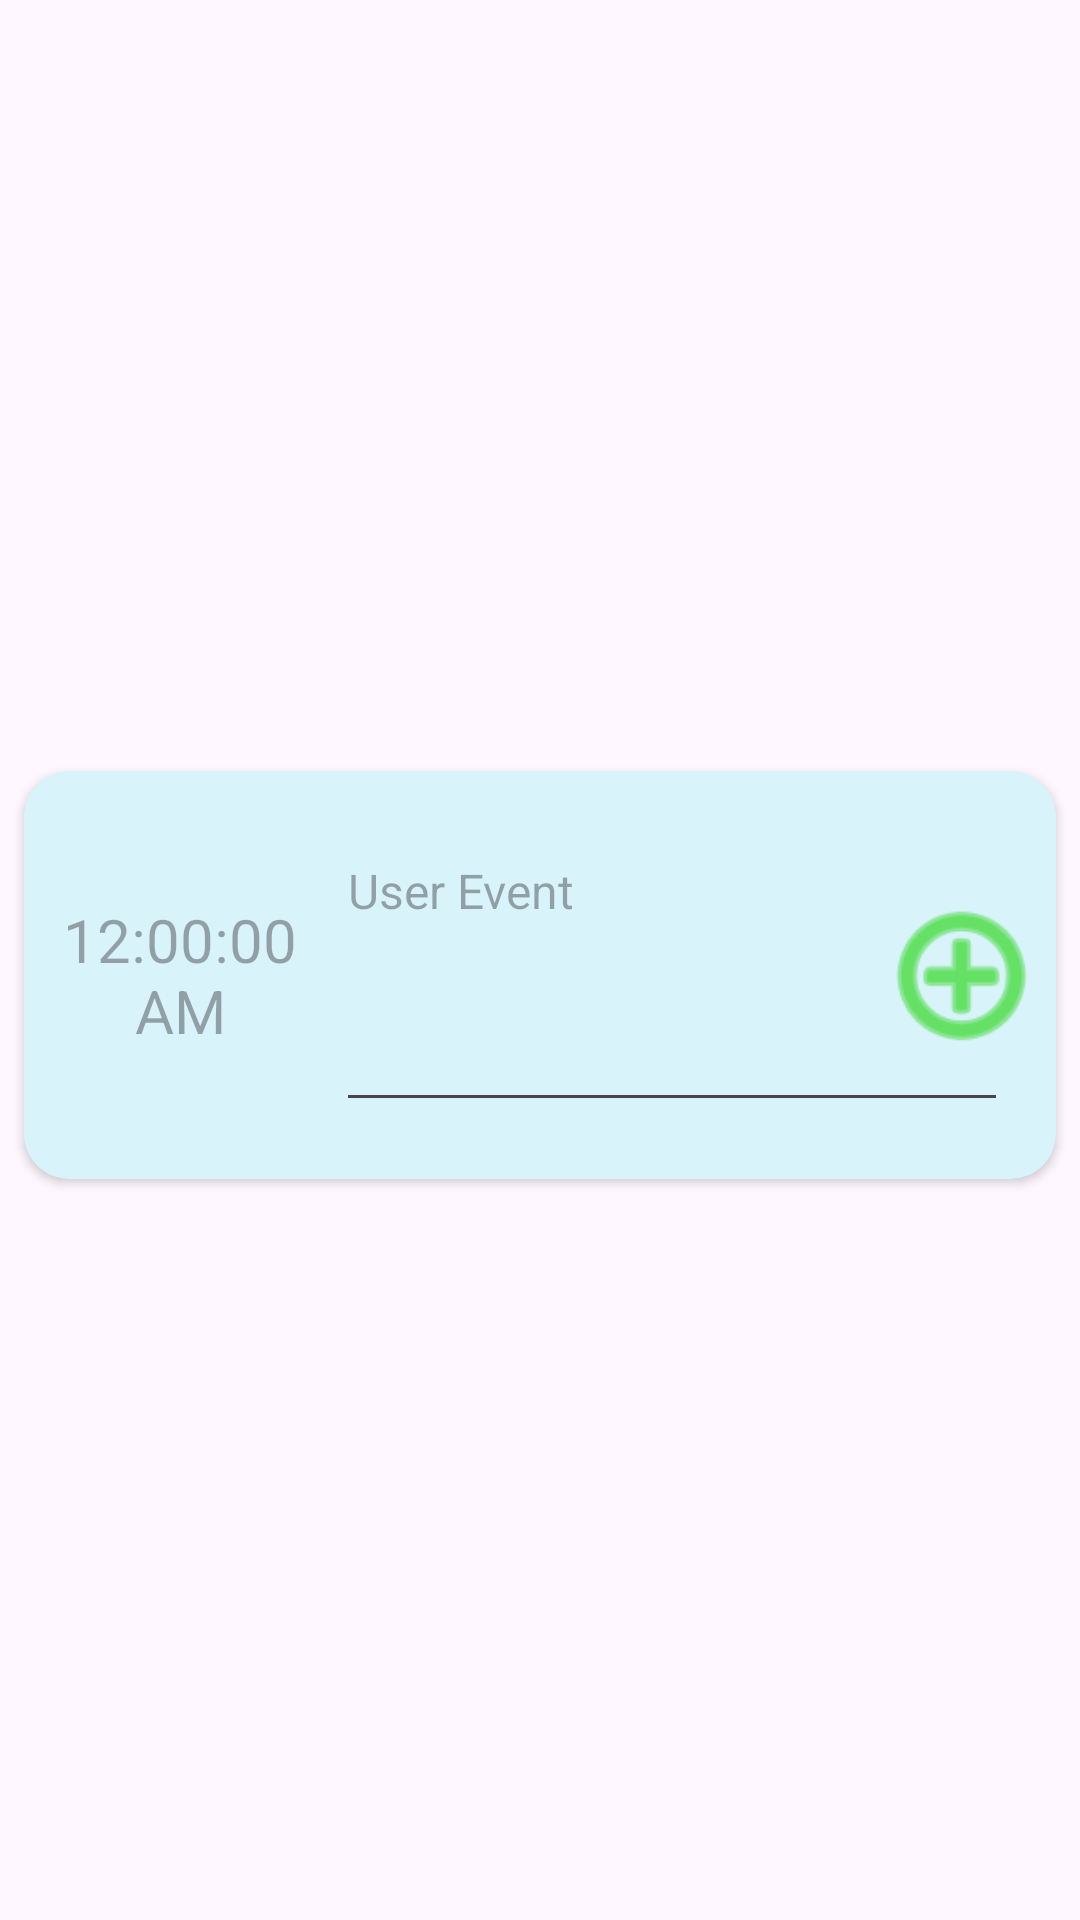

Point at icon controls on the screen. Image size 1080w x 1920h, points as (x=x, y=y).
add: (x=961, y=976)
